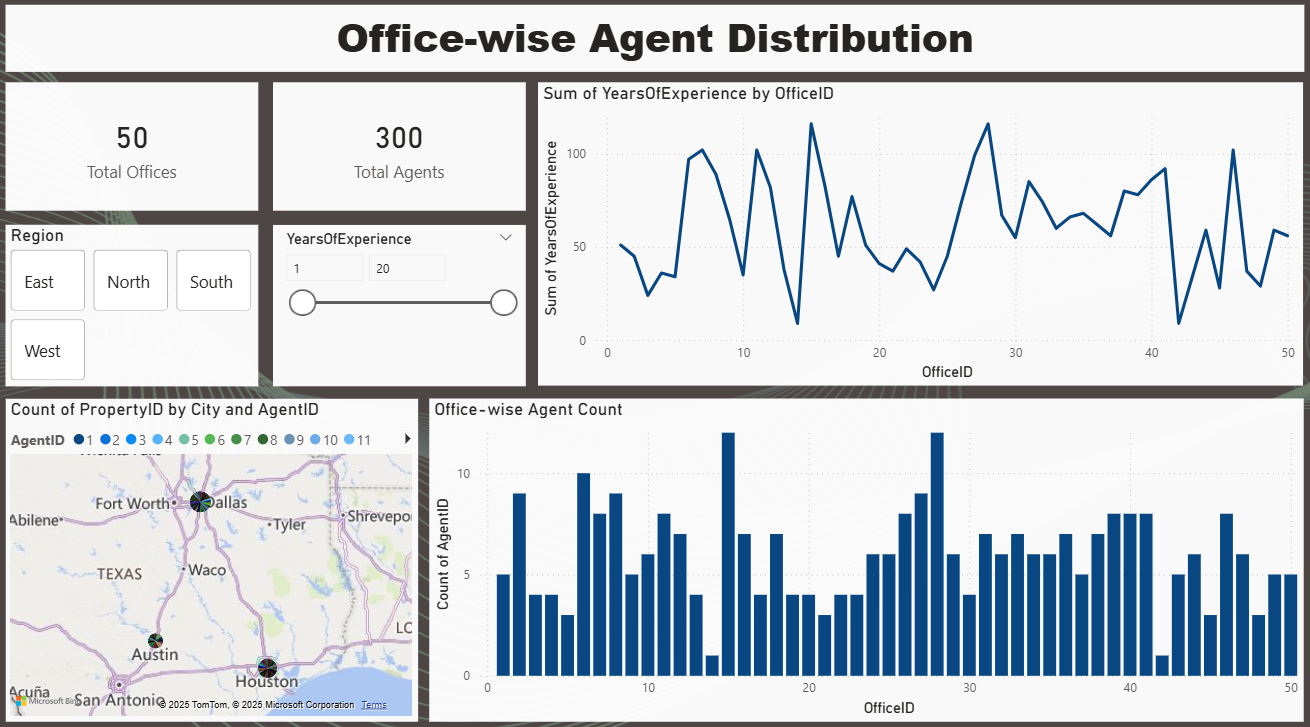

This screenshot's page, from the dashboard's own definition file:
{"tool":"powerbi","page":{"name":"Offices-Agents","canvas":[1280,720],"ordinal":7},"visuals":[{"type":"columnChart","title":"Office-wise Agent Count","fields":{"Category":["Offices.OfficeID"],"Y":["CountNonNull(Agents.AgentID)"]},"box":[421.3,393.9,844,311.6],"z":0},{"type":"map","fields":{"Category":["Offices.City"],"Series":["Agents.AgentID"],"Size":["CountNonNull(Properties.PropertyID)"]},"box":[11.5,393.9,398.2,311.6],"z":1000},{"type":"lineChart","fields":{"Category":["Offices.OfficeID"],"Y":["Sum(Agents.YearsOfExperience)"]},"box":[526.6,88,738.7,292.9],"z":2000},{"type":"card","fields":{"Values":["CountNonNull(Offices.OfficeID)"]},"box":[11.5,88,243.8,124.1],"z":3000},{"type":"card","fields":{"Values":["CountNonNull(Agents.AgentID)"]},"box":[269.8,88,243.8,124.1],"z":4000},{"type":"textbox","box":[11.5,13,1253.8,64.9],"z":5000},{"type":"slicer","fields":{"Values":["Agents.YearsOfExperience"]},"box":[269.8,225.1,243.8,155.8],"z":5001},{"type":"advancedSlicerVisual","fields":{"Values":["Agents.Region"]},"box":[11.5,225.1,243.8,155.8],"z":5002}]}

Visuals, with their boxes in screenshot pixels (x1, y1, x2, y2), scaled from the page's 1280x720 canvas onto the 1310x727 screenshot:
"Office-wise Agent Count" columnChart: select_region(431, 398, 1295, 712)
map - Offices.City x Agents.AgentID: select_region(12, 398, 419, 712)
lineChart - Offices.OfficeID x Sum(Agents.YearsOfExperience): select_region(539, 89, 1295, 385)
card - CountNonNull(Offices.OfficeID): select_region(12, 89, 261, 214)
card - CountNonNull(Agents.AgentID): select_region(276, 89, 526, 214)
textbox: select_region(12, 13, 1295, 79)
slicer - Agents.YearsOfExperience: select_region(276, 227, 526, 385)
advancedSlicerVisual - Agents.Region: select_region(12, 227, 261, 385)
